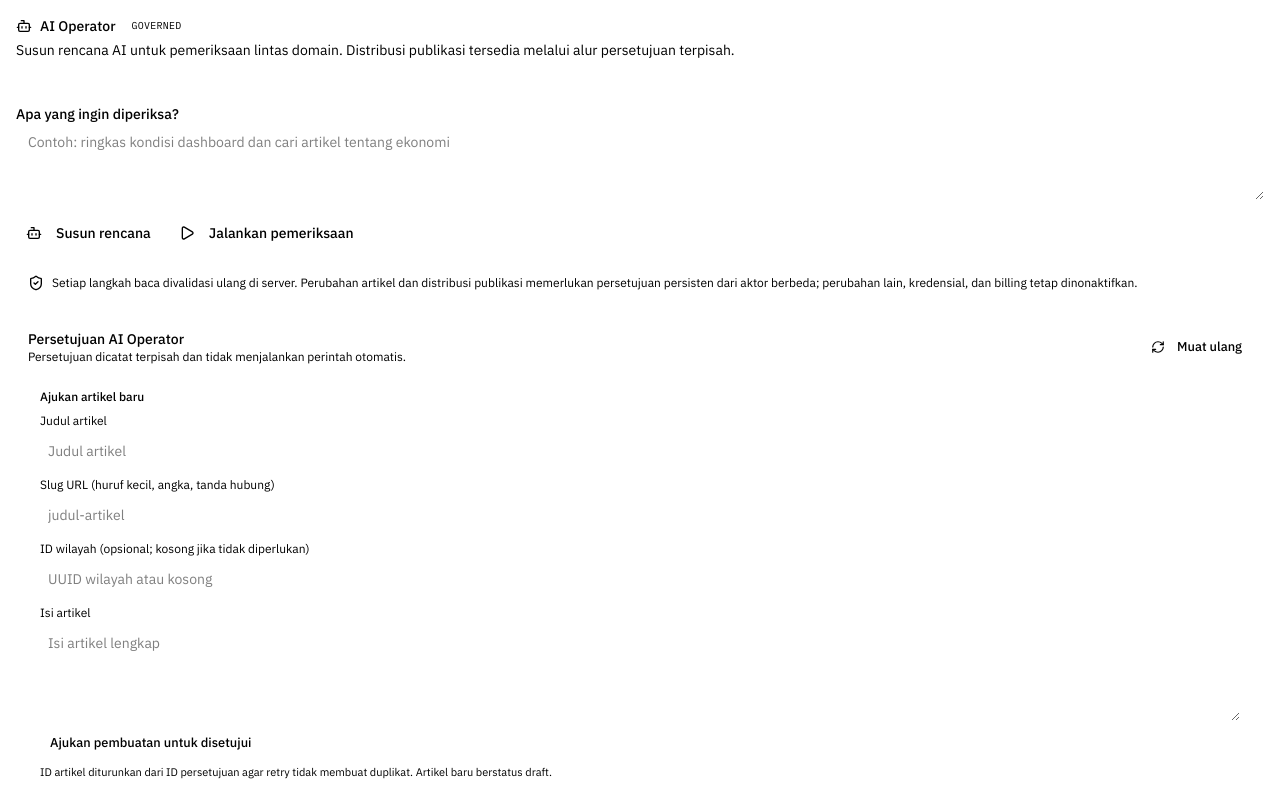
Scenario: AiOperatorConsole › submits a basic article create command for approval
Type "Artikel baru" into the field with placeholder "Judul artikel" at {"x": 640, "y": 451}, box [40,433,1240,469]
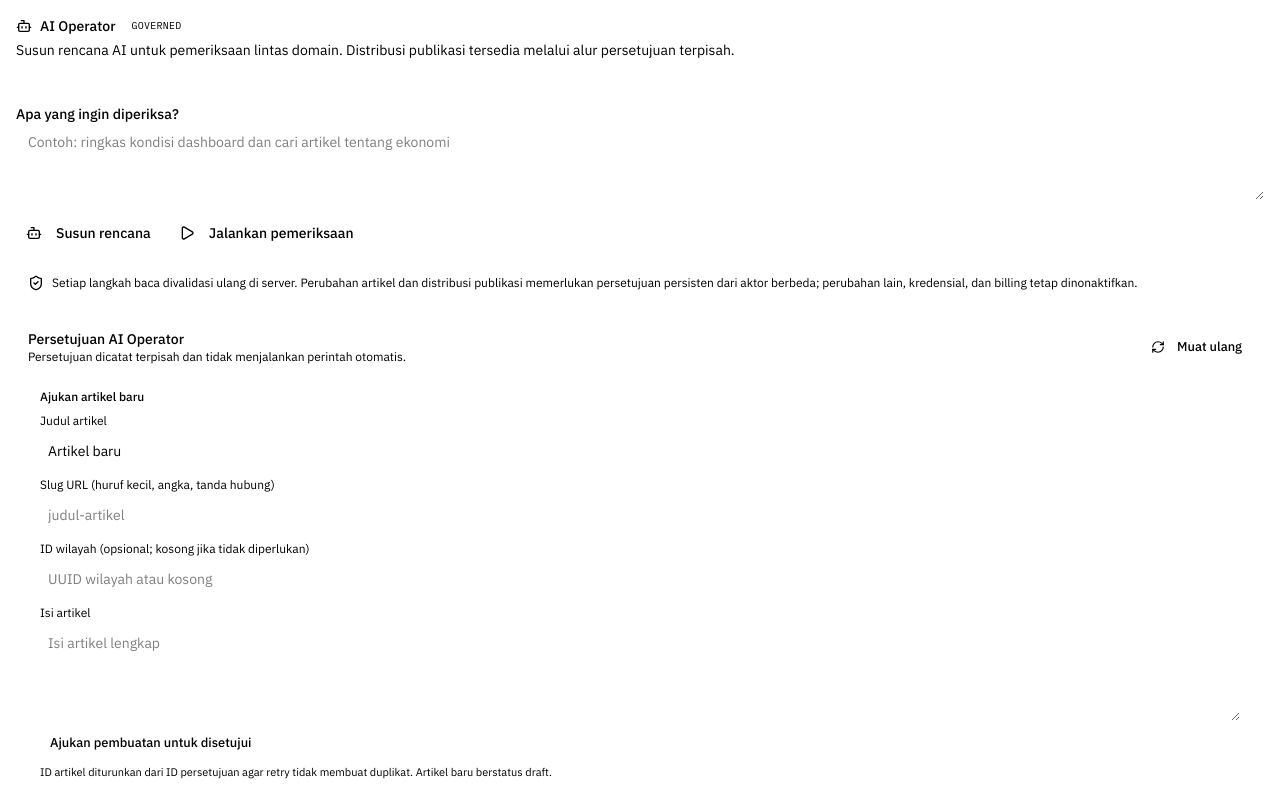
Type "artikel-baru" into the field with placeholder "judul-artikel" at {"x": 640, "y": 515}, box [40,497,1240,533]
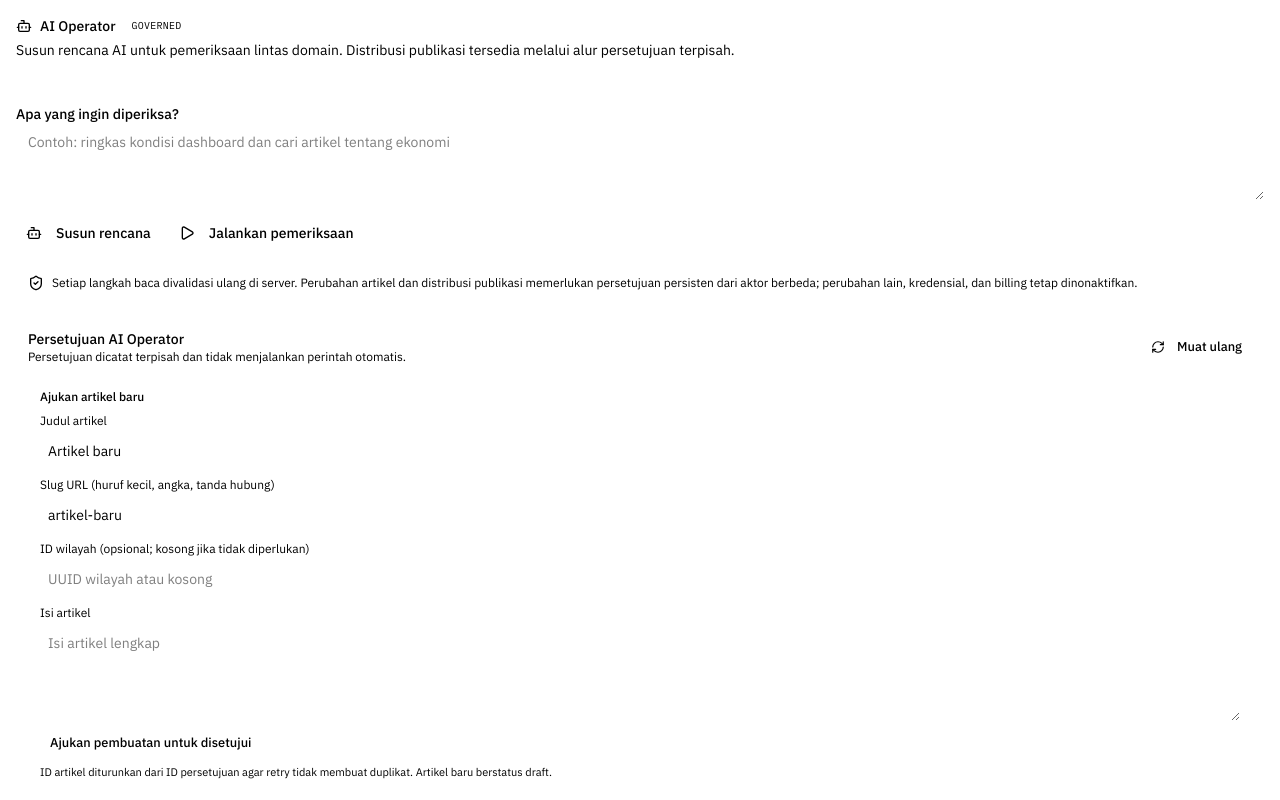
Type "Isi artikel" into the text box with placeholder "Isi artikel lengkap" at {"x": 640, "y": 673}, box [40,625,1240,721]
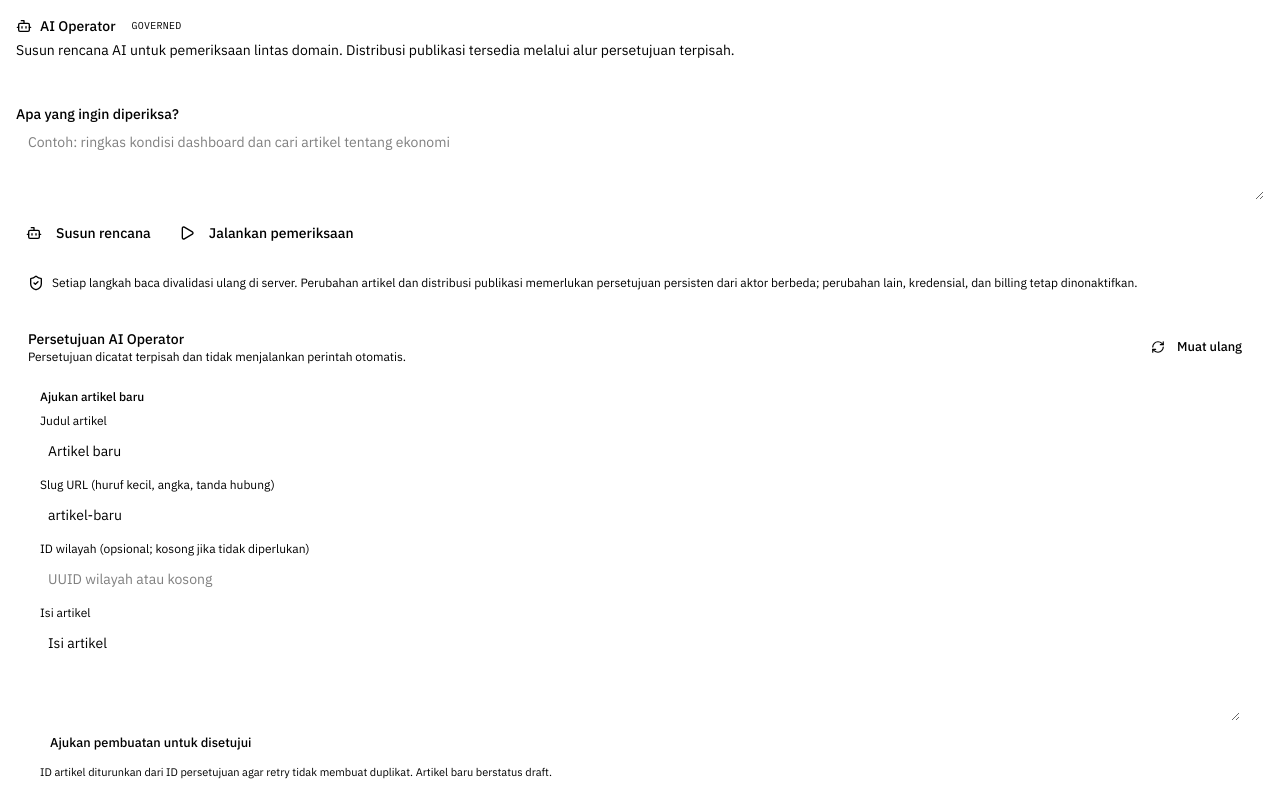
Click the button "Ajukan pembuatan untuk disetujui" at {"x": 151, "y": 743}, box [40,729,262,757]
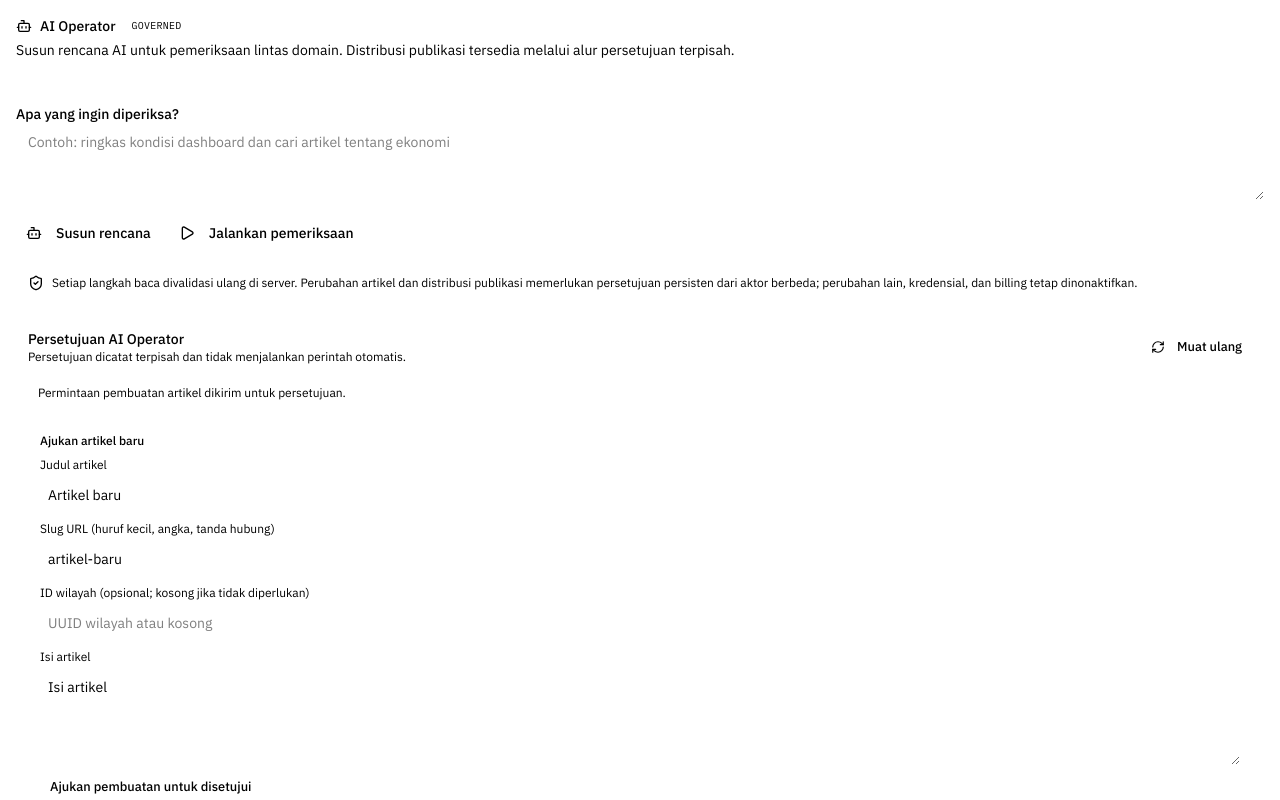
Now the text "Permintaan pembuatan artikel dikirim untuk persetujuan." is shown, box [38,385,346,400]
